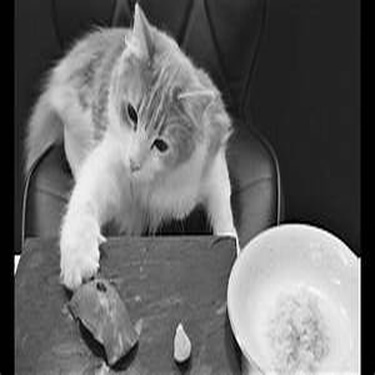cat: (22, 2, 246, 296)
